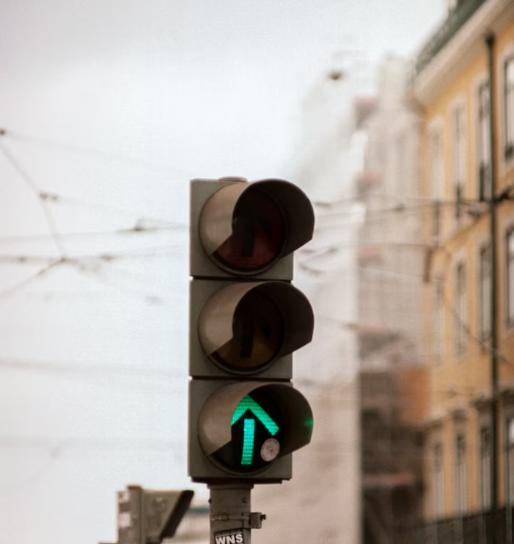green_light: (188, 178, 314, 482)
